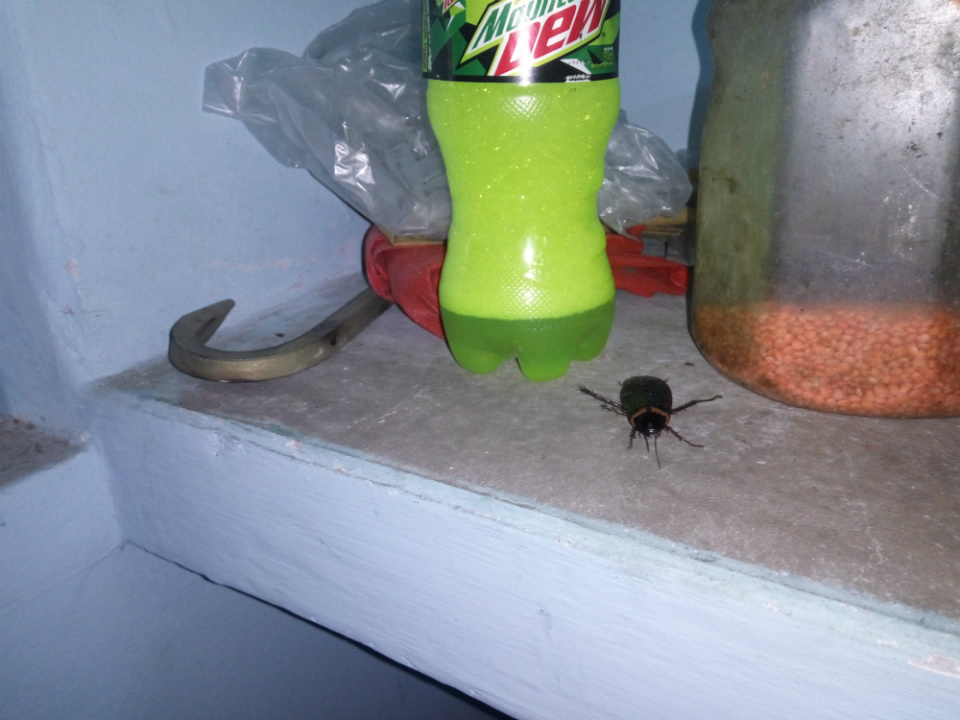cockroach: (530, 306, 726, 494)
